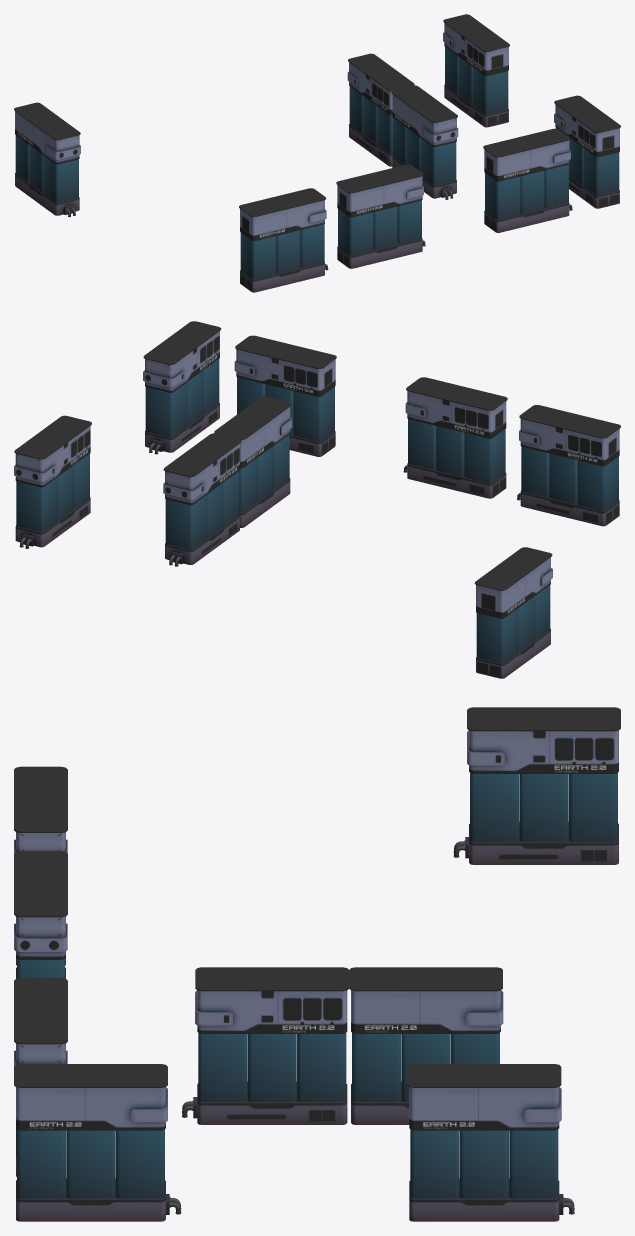
The model's file is Laboratorios_v2.fbx.
3 renders of one model, top to bottom at view 1: azimuth 30°, elevation 25°; view 2: azimuth 150°, elevation 25°; view 3: azimuth 270°, elevation 25°, orthographic. The views are drawn at different scales.
Parts seen in each view (by area): view 1: Invernadero_base.002, Invernadero_base.006, Invernadero_base.003, Invernadero_base.007, Invernadero_base.004, Invernadero_base.005, Invernadero_base, Invernadero_cristales.003, Invernadero_cristales.002, Invernadero_cristales.006, Invernadero_base.001, Invernadero_cristales.007 (+4 smaller); view 2: Invernadero_base.002, Invernadero_base.003, Invernadero_base.006, Invernadero_base.004, Invernadero_base.005, Invernadero_base.001, Invernadero_base.007, Invernadero_cristales.002, Invernadero_cristales.003, Invernadero_base, Invernadero_cristales.005, Invernadero_cristales.007 (+4 smaller); view 3: Invernadero_base.004, Invernadero_base.005, Invernadero_base, Invernadero_base.007, Invernadero_base.001, Invernadero_cristales.004, Invernadero_cristales.005, Invernadero_cristales, Invernadero_cristales.007, Invernadero_cristales.001, Invernadero_base.002, Invernadero_base.006 (+2 smaller).
Boxes of the visible parts, x1,y1,x2,y2 form: Invernadero_base.002: [336, 164, 425, 268]; Invernadero_base.006: [483, 128, 572, 232]; Invernadero_base.003: [239, 188, 328, 292]; Invernadero_base.007: [14, 102, 80, 217]; Invernadero_base.004: [443, 14, 509, 127]; Invernadero_base.005: [554, 95, 620, 208]; Invernadero_base: [391, 85, 458, 199]; Invernadero_cristales.003: [240, 224, 324, 279]; Invernadero_cristales.002: [338, 200, 421, 255]; Invernadero_cristales.006: [485, 164, 568, 219]; Invernadero_base.001: [347, 53, 414, 166]; Invernadero_cristales.007: [15, 135, 78, 202]; Invernadero_base.002: [403, 377, 507, 498]; Invernadero_base.003: [517, 405, 620, 526]; Invernadero_base.006: [234, 335, 336, 456]; Invernadero_base.004: [14, 415, 91, 548]; Invernadero_base.005: [143, 321, 221, 454]; Invernadero_base.001: [163, 433, 241, 566]; Invernadero_base.007: [474, 547, 552, 678]; Invernadero_cristales.002: [408, 419, 505, 483]; Invernadero_cristales.003: [521, 446, 618, 510]; Invernadero_base: [214, 396, 292, 527]; Invernadero_cristales.005: [145, 359, 219, 437]; Invernadero_cristales.007: [476, 585, 550, 663]; Invernadero_base.004: [407, 1064, 574, 1221]; Invernadero_base.005: [14, 1064, 181, 1221]; Invernadero_base: [182, 967, 349, 1124]; Invernadero_base.007: [453, 707, 620, 864]; Invernadero_base.001: [349, 967, 503, 1124]; Invernadero_cristales.004: [410, 1129, 558, 1198]; Invernadero_cristales.005: [17, 1129, 164, 1198]; Invernadero_cristales: [198, 1033, 346, 1101]; Invernadero_cristales.007: [470, 773, 617, 841]; Invernadero_cristales.001: [352, 1033, 499, 1101]; Invernadero_base.002: [14, 851, 67, 978]; Invernadero_base.006: [14, 978, 67, 1176].
Bounding box in the file's own units: 1796 × 300 × 1214.
